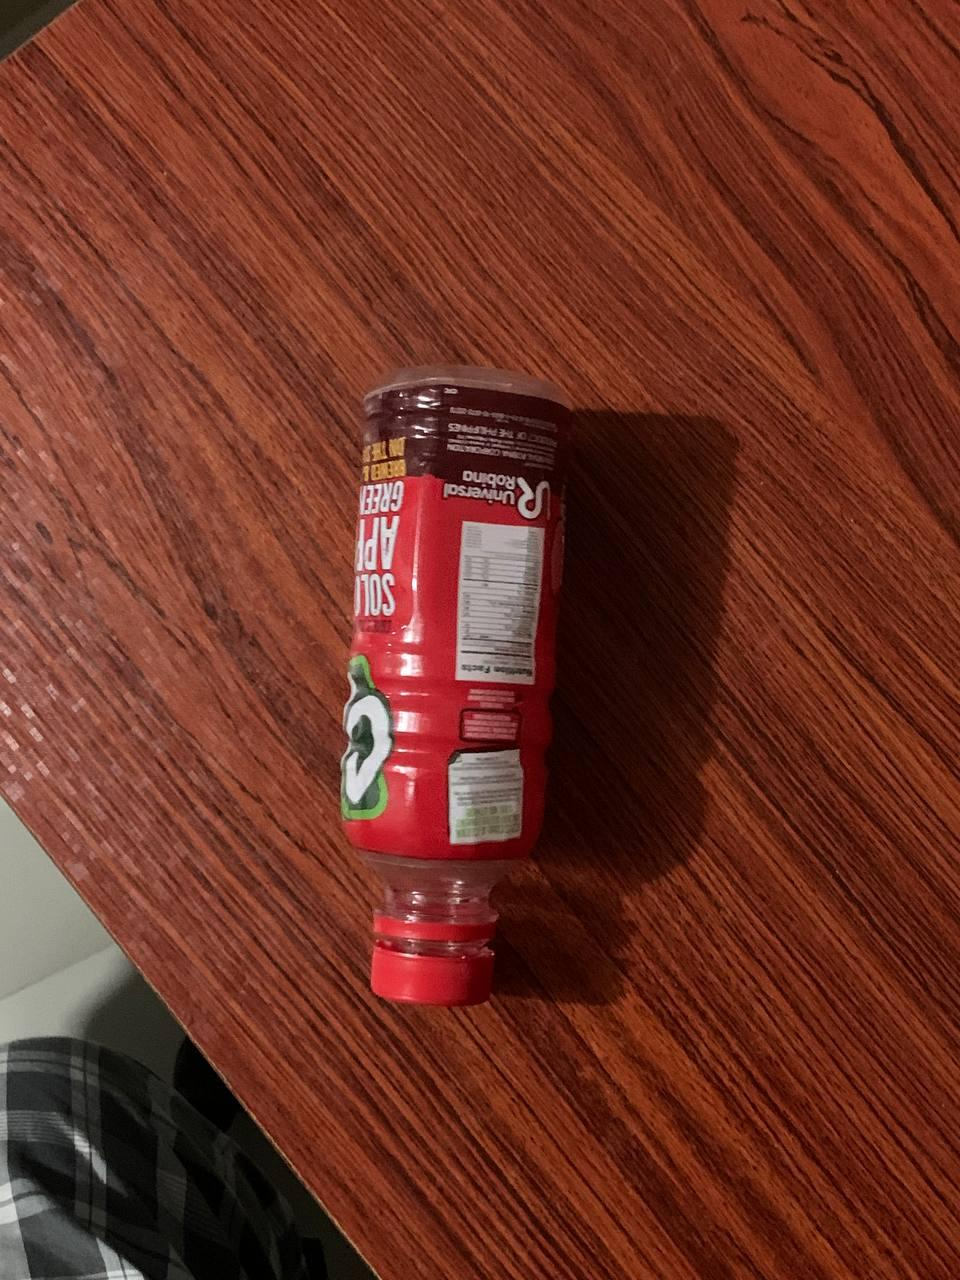plastic: (188, 321, 763, 1090)
